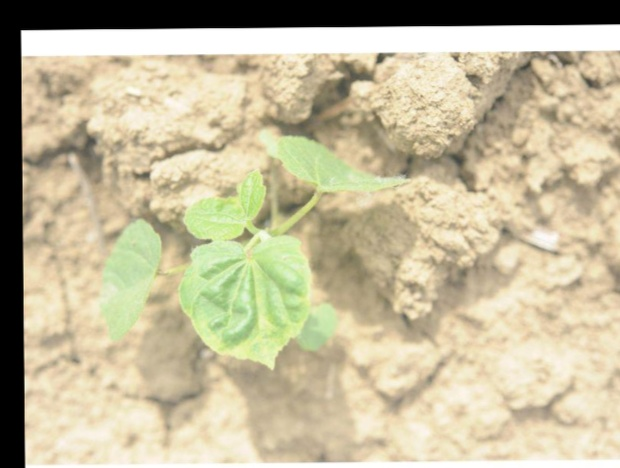velvet: (97, 133, 411, 372)
